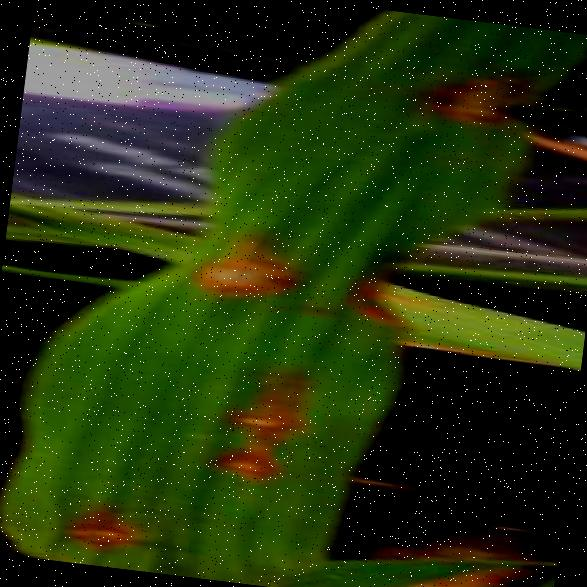Leaf_smut: (400, 40, 549, 161), (181, 198, 305, 322), (210, 336, 316, 445), (50, 478, 153, 569), (189, 434, 300, 512)
